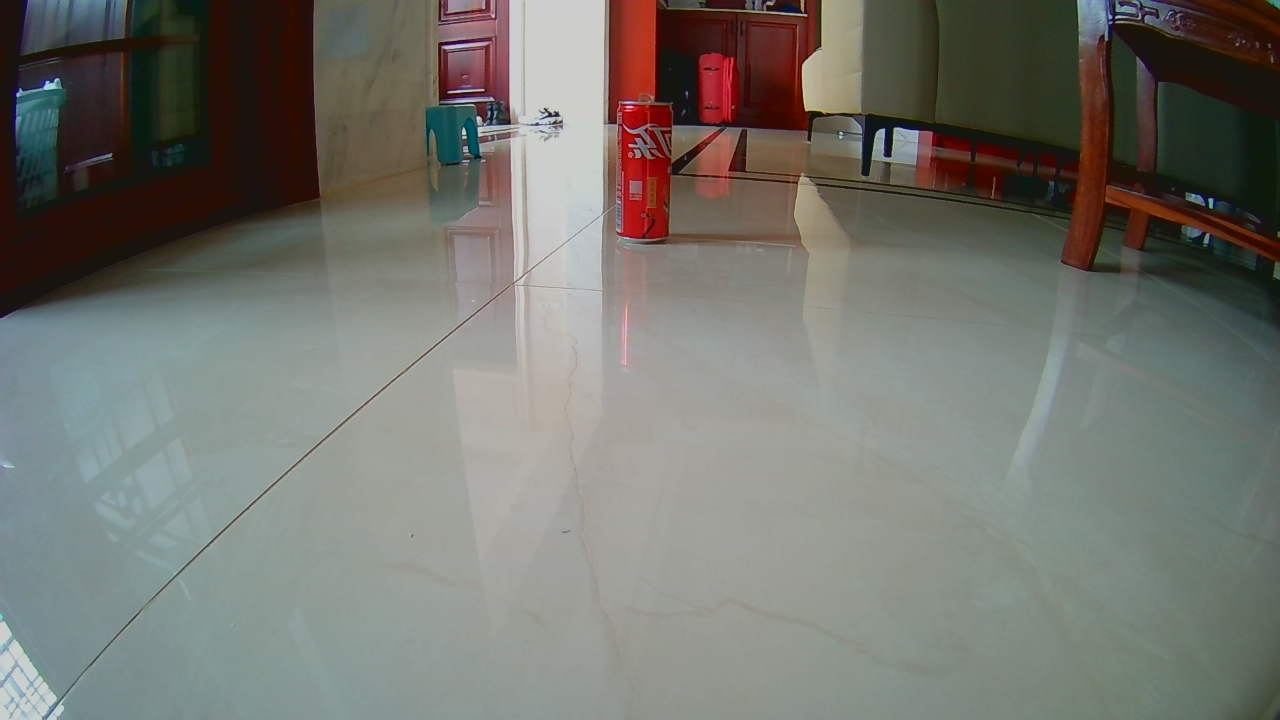cola: (611, 94, 684, 252)
